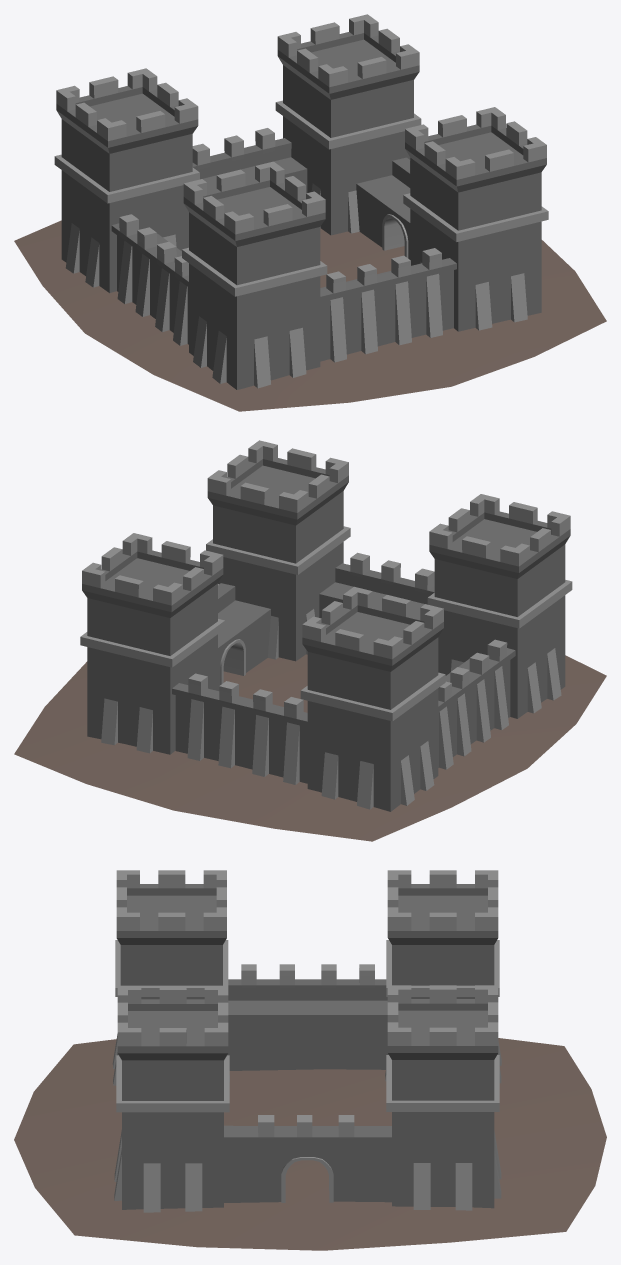
The picture shows the model from 3 angles, top to bottom: view 1: azimuth 30°, elevation 25°; view 2: azimuth 150°, elevation 25°; view 3: azimuth 270°, elevation 25°; orthographic projection. The views are drawn at different scales.
Parts seen in each view (by area): view 1: SM_Fort; view 2: SM_Fort; view 3: SM_Fort.
Part boxes in pixels (box(x1,y1,x2,y2)): SM_Fort: box(14, 14, 606, 411); SM_Fort: box(14, 440, 606, 841); SM_Fort: box(14, 870, 606, 1250).
Bounding box in the file's own units: 91.39 × 34.1 × 99.94.
